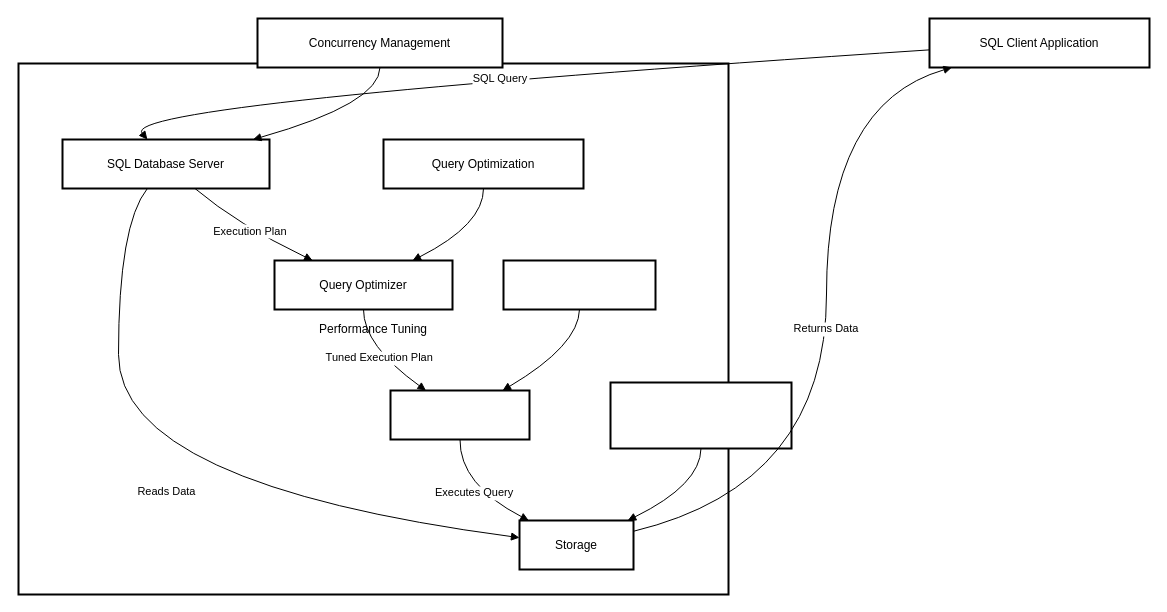
Image size: 1167x612. Some labels were removed from this diagram. Here are the shapes that lost their labels. From the top down, the centre of each, then its label:
At [579,284]: "Index Tuning".
At [459,414]: "SQL Engine".
At [700,415]: "Memory and Disk Optimization".
